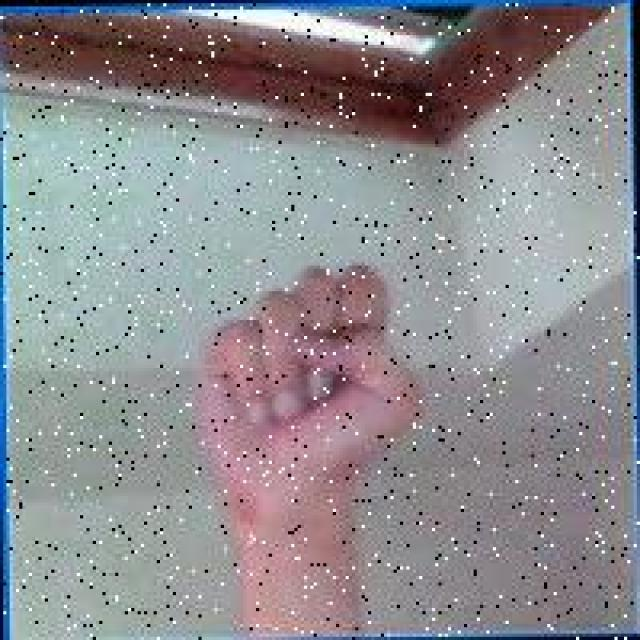S: (189, 256, 435, 506)
